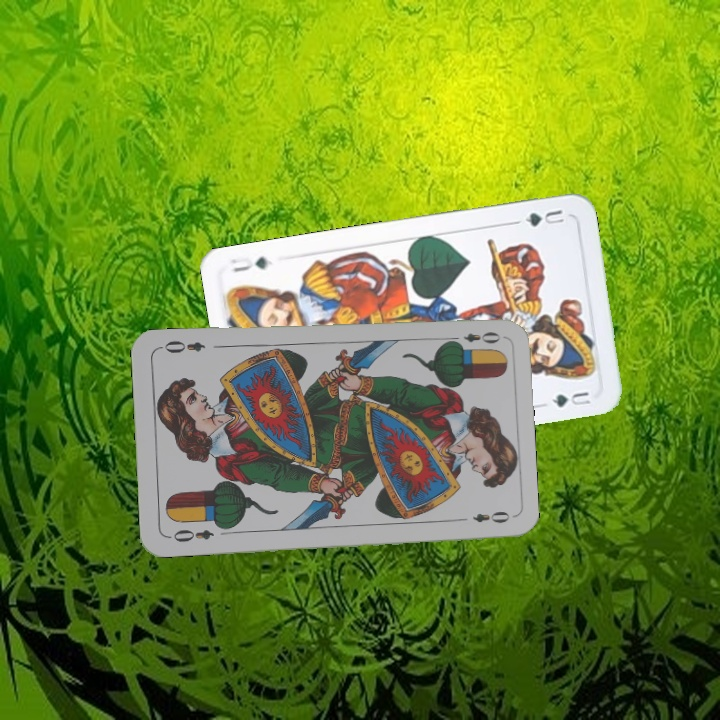EO: (445, 328, 503, 348), (164, 525, 216, 545)
GU: (511, 205, 567, 230)
